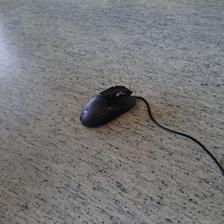mouse: (79, 86, 138, 128)
